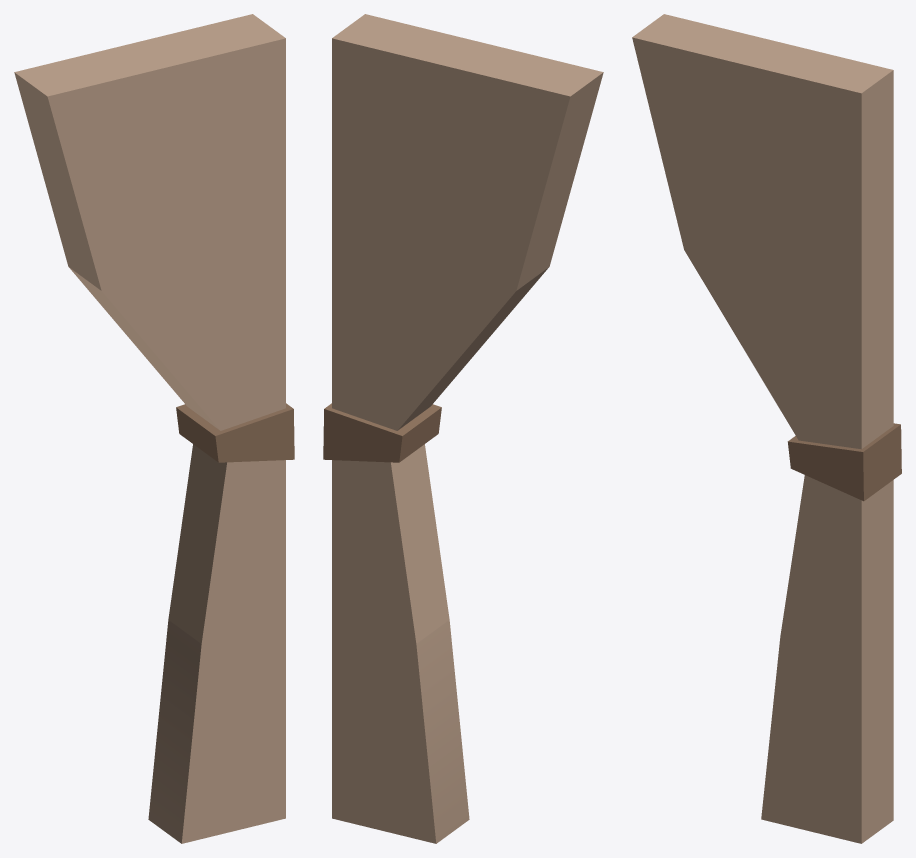
File: Curtain 01 Beige.FBX
The picture shows the model from 3 angles, left to right: view 1: azimuth 30°, elevation 25°; view 2: azimuth 150°, elevation 25°; view 3: azimuth 330°, elevation 25°; orthographic projection. The views are drawn at different scales.
Visible parts, largest first — view 1: Curtain 01 Beige; view 2: Curtain 01 Beige; view 3: Curtain 01 Beige.
Boxes of the visible parts, x1=… form: Curtain 01 Beige: x1=14, y1=14, x2=294, y2=843; Curtain 01 Beige: x1=323, y1=14, x2=603, y2=843; Curtain 01 Beige: x1=632, y1=14, x2=901, y2=843.
Bounding box in the file's own units: 81.87 × 250 × 22.89.
